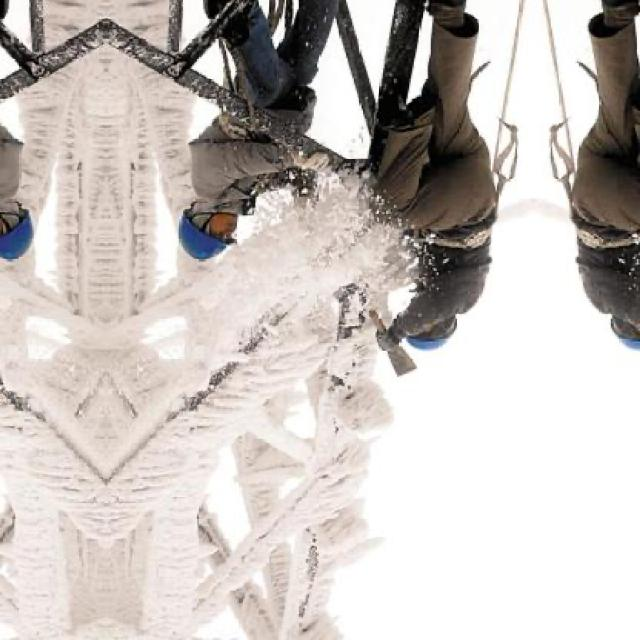con casco: (360, 288, 516, 378), (172, 189, 266, 266), (0, 185, 59, 274)
